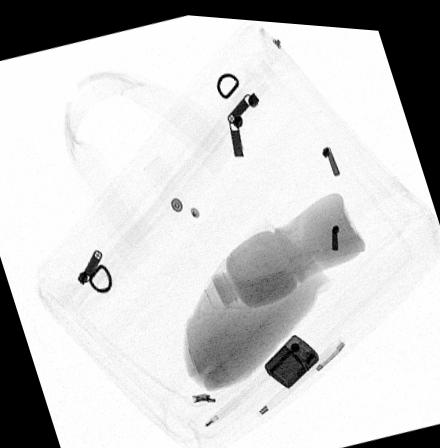Lighter: (264, 329, 318, 383)
